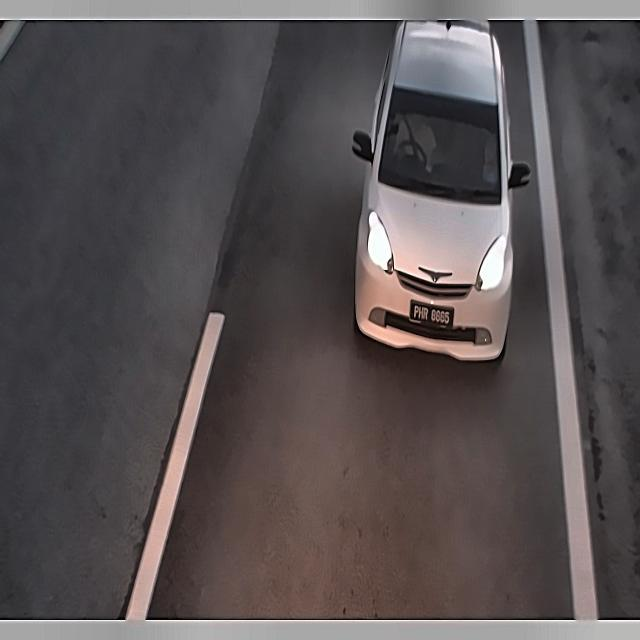car: (406, 294, 459, 339)
